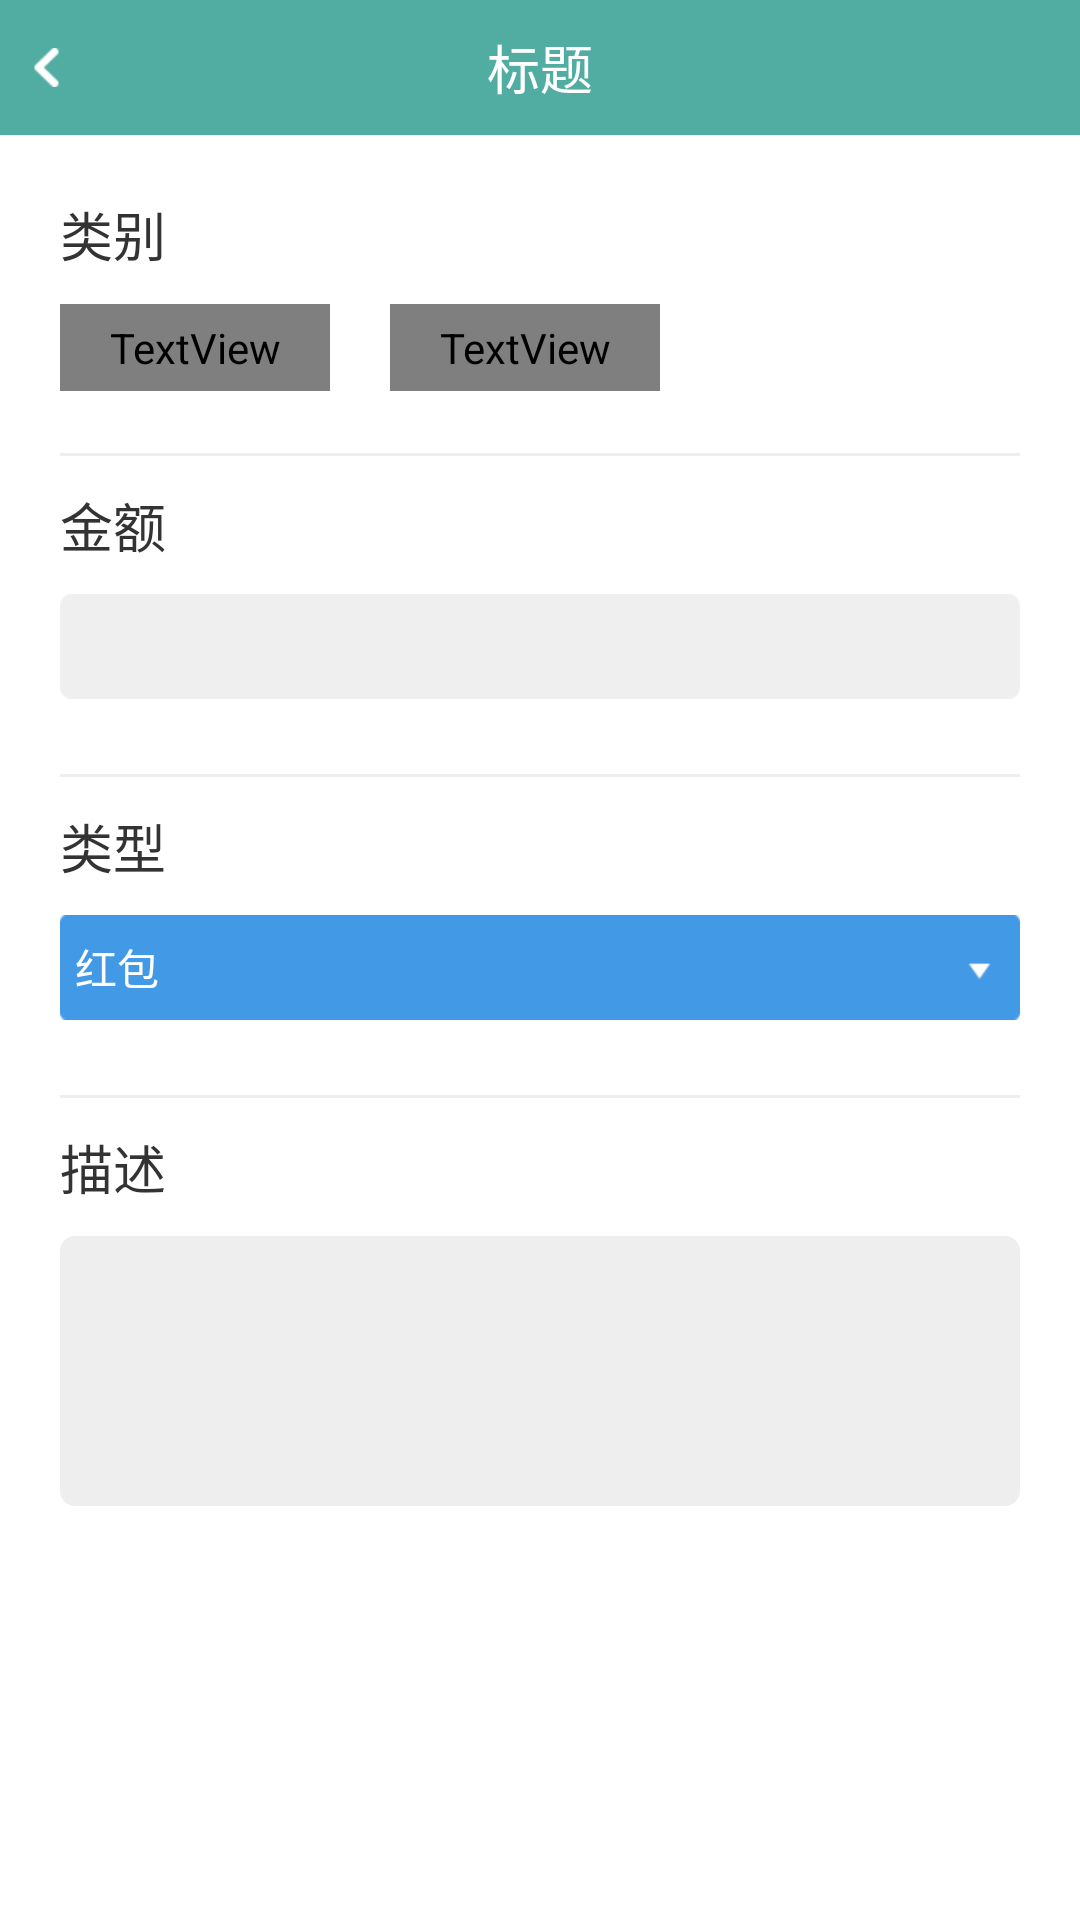

Icon bounding boxes for this 1080x1920 phone screenshot, format (x1, y1, x2, y2):
back index: (34, 48, 59, 87)
